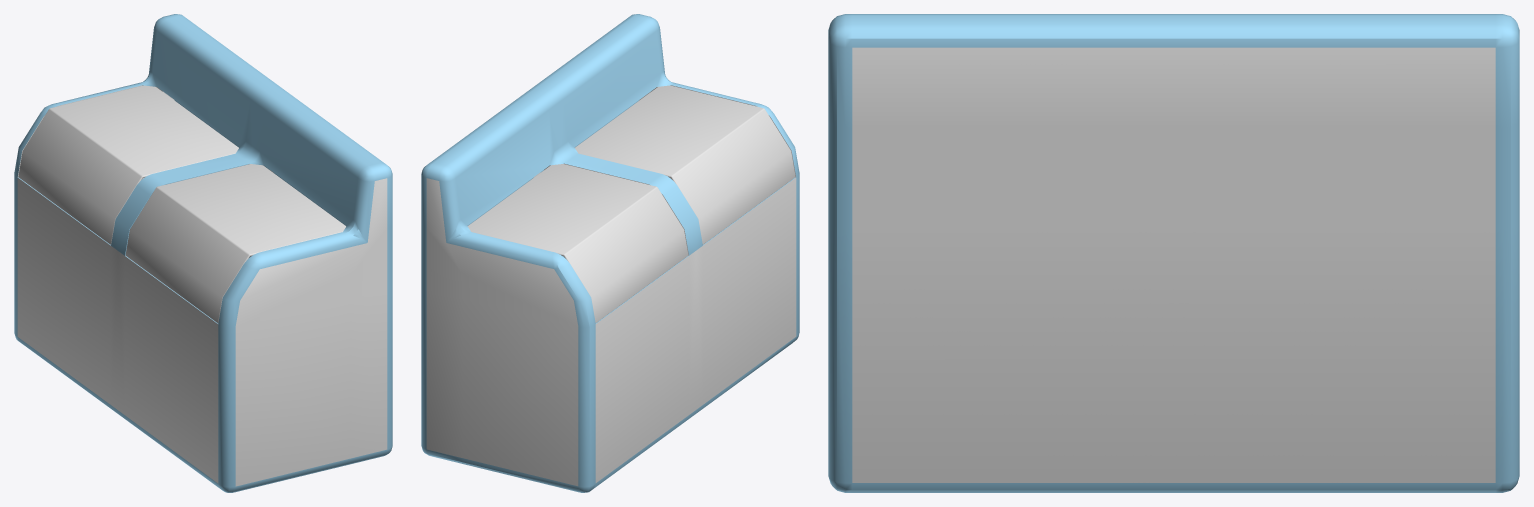
File: icecreamfreezer_model.fbx
3 renders of one model, left to right at view 1: azimuth 30°, elevation 25°; view 2: azimuth 150°, elevation 25°; view 3: azimuth 270°, elevation 25°, orthographic. The views are drawn at different scales.
Parts seen in each view (by area): view 1: icecreamfreezer, glass; view 2: icecreamfreezer, glass; view 3: icecreamfreezer.
Part boxes in pixels (x1,y1,x2,y2): icecreamfreezer: (14,14,392,492); glass: (18,85,345,323); icecreamfreezer: (421,14,799,492); glass: (467,85,795,322); icecreamfreezer: (828,14,1519,492).
Size of the model in its own units: 42.67 by 69.35 by 93.11.
